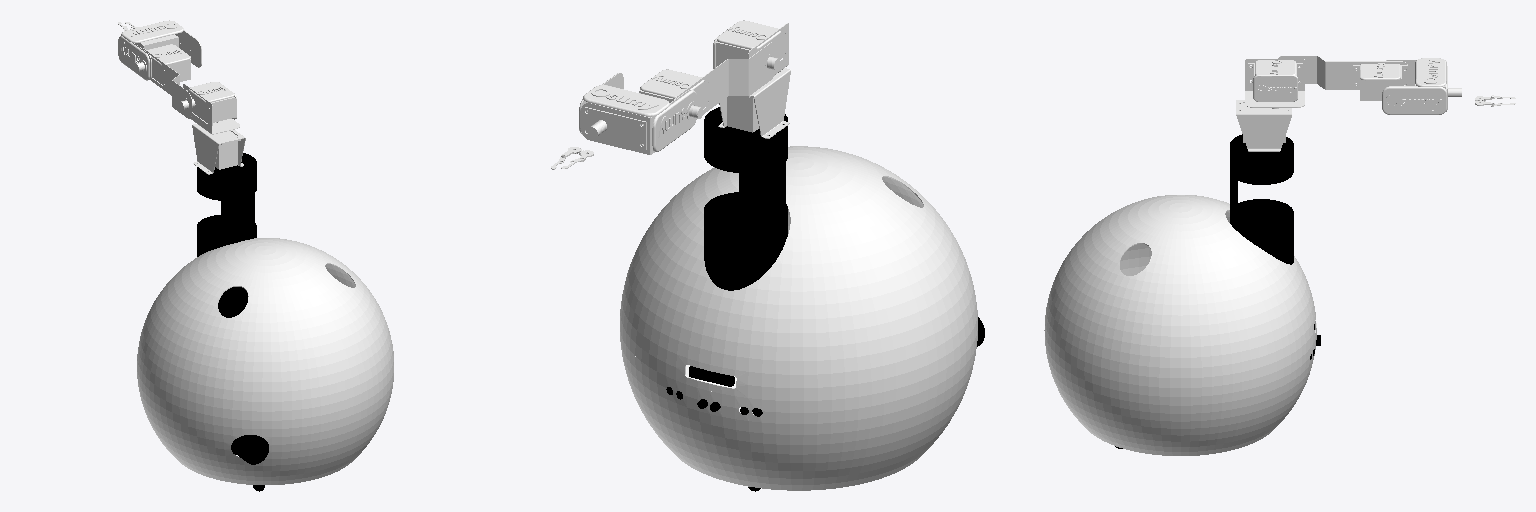
--- Render facts (derived) ---
Views: 3 orthographic renders of the robot side by side, from view 1: azimuth 30°, elevation 25°; view 2: azimuth 150°, elevation 25°; view 3: azimuth 270°, elevation 25°.
Model robot with 28 links and 27 joints (8 continuous, 19 fixed), rooted at base_link, posed all joints at 0.
Links seen in each view (by area): view 1: base_link, main_body, shoulder_arm, mount_arm, arm, mount, long_label_1, long_label_3, long_label_4, long_label_6, long_label_2; view 2: base_link, main_body, arm, shoulder_arm, wrist_arm, long_label_1, long_label_3, mount_arm, long_label_4, long_label_6; view 3: base_link, main_body, arm, shoulder_arm, long_label_2, long_label_5, mount_arm, long_label_1, long_label_6, long_label_4.
Link boxes in pixels (x1=…): base_link: x1=137, y1=238, x2=393, y2=484; main_body: x1=197, y1=153, x2=256, y2=317; shoulder_arm: x1=192, y1=124, x2=245, y2=174; mount_arm: x1=179, y1=84, x2=239, y2=134; arm: x1=135, y1=48, x2=191, y2=118; mount: x1=231, y1=435, x2=268, y2=464; long_label_1: x1=122, y1=20, x2=183, y2=42; long_label_3: x1=118, y1=36, x2=149, y2=80; long_label_4: x1=189, y1=82, x2=234, y2=102; long_label_6: x1=147, y1=44, x2=190, y2=65; long_label_2: x1=175, y1=30, x2=201, y2=67; base_link: x1=620, y1=146, x2=977, y2=490; main_body: x1=704, y1=107, x2=787, y2=290; arm: x1=639, y1=42, x2=776, y2=118; shoulder_arm: x1=718, y1=68, x2=790, y2=138; wrist_arm: x1=581, y1=90, x2=690, y2=154; long_label_1: x1=583, y1=85, x2=669, y2=116; long_label_3: x1=652, y1=90, x2=696, y2=151; mount_arm: x1=716, y1=23, x2=788, y2=74; long_label_4: x1=717, y1=20, x2=780, y2=49; long_label_6: x1=640, y1=69, x2=704, y2=98; base_link: x1=1044, y1=195, x2=1316, y2=455; main_body: x1=1230, y1=134, x2=1293, y2=264; arm: x1=1278, y1=56, x2=1407, y2=100; shoulder_arm: x1=1236, y1=100, x2=1291, y2=151; long_label_2: x1=1382, y1=86, x2=1446, y2=114; long_label_5: x1=1253, y1=74, x2=1297, y2=101; mount_arm: x1=1245, y1=59, x2=1304, y2=107; long_label_1: x1=1415, y1=58, x2=1446, y2=86; long_label_6: x1=1360, y1=63, x2=1400, y2=80; long_label_4: x1=1255, y1=60, x2=1295, y2=76.
Bounding box of the posed robot: 0.654 × 1.13 × 0.963 m (x, y, z).
22 mesh visuals loaded from 18 distinct referenced files (13 binary STL); not drawn: 6 (reference not matched to a file when rendering).

robot.urdf — robot:
<?xml version="1.0" encoding="utf-8"?>
<robot
  name="robot">
  <link
    name="base_link">
<inertial>
<mass value="10"/>
<inertia ixx="0.015" iyy="0.0375" izz="0.0375"
ixy="0" ixz="0" iyz="0"/>
</inertial>
    <visual>
      <origin
        xyz="0 0 0.33392"
        rpy="0 0 0" />
      <geometry>
        <mesh
          filename="package://robot/meshes/case_rsz.stl" />
      </geometry>
      <material
        name="White">
        <color
          rgba="1 1 1 1" />
      </material>
    </visual>
    <collision>
      <origin
        xyz="0 0 0.33392"
        rpy="0 0 0" />
      <geometry>
        <mesh
          filename="package://robot/meshes/case_rsz.stl" />
      </geometry>
    </collision>
  </link>
  <link
    name="leftwheel">
<inertial>
<mass value="1"/>
<inertia ixx="0.01" iyy="0.01" izz="0.01"
ixy="0" ixz="0" iyz="0"/>
</inertial>
    <visual>
      <origin
        xyz="0 0 0"
        rpy="0 0 3.14" />
      <geometry>
        <mesh
          filename="package://robot/meshes/wheel_rsz.stl" />
      </geometry>
      <material
        name="Black">
        <color
          rgba="0 0 0 1" />
      </material>
    </visual>
    <collision>
      <origin
        xyz="0 0 0"
        rpy="1.57 0 0" />
      <geometry>
        <cylinder radius="0.09" length = "0.03"/>
      </geometry>
    </collision>
  </link>
  <joint
    name="leftwheel_joint"
    type="continuous">
    <origin
        xyz="0.15 0 0.0851"
        rpy="0 0 1.5708" />
    <parent
      link="base_link" />
    <child
      link="leftwheel" />
    <axis
      xyz="0 1 0" />
  </joint>

  <link
    name="rightwheel">
<inertial>
<mass value="1"/>
<inertia ixx="0.01" iyy="0.01" izz="0.01"
ixy="0" ixz="0" iyz="0"/>
</inertial>
    <visual>
      <origin
        xyz="0 0 0"
        rpy="0 0 0" />
      <geometry>
        <mesh
          filename="package://robot/meshes/wheel_rsz.stl" />
      </geometry>
      <material
        name="Black">
        <color
          rgba="0 0 0 1" />
      </material>
    </visual>
    <collision>
      <origin
        xyz="0 0 0"
        rpy="1.57 0 0" />
      <geometry>
        <cylinder radius="0.09" length = "0.03"/>
      </geometry>
    </collision>
  </link>
  <joint
    name="rightwheel_joint"
    type="continuous">
    <origin
        xyz="-0.15 0 0.0851"
        rpy="0 0 1.5708" />
    <parent
      link="base_link" />
    <child
      link="rightwheel" />
    <axis
      xyz="0 1 0" />
  </joint>

 <link
    name="caster_front">
<inertial>
<mass value="0.5"/>
<inertia ixx="0.01" iyy="0.01" izz="0.01"
ixy="0" ixz="0" iyz="0"/>
</inertial>
    <visual>
      <origin
        xyz="0 0 0.06"
        rpy="0 0 0" />
      <geometry>
        <mesh
          filename="package://robot/meshes/caster.STL"/>

      </geometry>
      <material
        name="Black">
        <color
          rgba="0 0 0 1" />
      </material>
    </visual>
    <collision>
      <origin
        xyz="0.05 0 0"
        rpy="0 0 0" />
      <geometry>
        <sphere radius="0.025"/>
      </geometry>
    </collision>
  </link>
  <joint
    name="caster_front_joint"
    type="fixed">
    <origin
        xyz="0 0.1 0.024"
        rpy="0 0 1.57" />
    <parent
      link="base_link" />
    <child
      link="caster_front" />
    <axis
      xyz="0 1 0" />
  </joint>

 <link
    name="caster_right">
<inertial>
<mass value="0.8"/>
<inertia ixx="0.01" iyy="0.01" izz="0.01"
ixy="0" ixz="0" iyz="0"/>
</inertial>
    <visual>
      <origin
        xyz="0 0 0.06"
        rpy="0 0 0" />
      <geometry>
        <mesh
          filename="package://robot/meshes/caster.STL"/>

      </geometry>
      <material
        name="Black">
        <color
          rgba="0 0 0 1" />
      </material>
    </visual>
    <collision>
      <origin
        xyz="0 0 0"
        rpy="0 0 0" />
      <geometry>
        <sphere radius="0.025"/>
      </geometry>
    </collision>
  </link>
  <joint
    name="caster_right_joint"
    type="fixed">
    <origin
        xyz="0.1 -0.2 0.024"
        rpy="0 0 1.57" />
    <parent
      link="base_link" />
    <child
      link="caster_right" />
    <axis
      xyz="0 1 0" />
  </joint>

   <link
    name="caster_left">
<inertial>
<mass value="0.8"/>
<inertia ixx="0.01" iyy="0.01" izz="0.01"
ixy="0" ixz="0" iyz="0"/>
</inertial>
    <visual>
      <origin
        xyz="0 0 0.06"
        rpy="0 0 0" />
      <geometry>
        <mesh
          filename="package://robot/meshes/caster.STL"/>

      </geometry>
      <material
        name="Black">
        <color
          rgba="0 0 0 1" />
      </material>
    </visual>
    <collision>
      <origin
        xyz="0 0 0"
        rpy="0 0 0" />
      <geometry>
        <sphere radius="0.025"/>
      </geometry>
    </collision>
  </link>
  <joint
    name="caster_left_joint"
    type="fixed">
    <origin
        xyz="-0.1 -0.2 0.024"
        rpy="0 0 1.57" />
    <parent
      link="base_link" />
    <child
      link="caster_left" />
    <axis
      xyz="0 1 0" />
  </joint>


  <link
    name="mount">
<inertial>
<mass value="0.9"/>
<inertia ixx="0.01" iyy="0.01" izz="0.01"
ixy="0" ixz="0" iyz="0"/>
</inertial>
    <visual>
      <origin
        xyz="0 0 0"
        rpy="0 0 0" />
      <geometry>
        <mesh
          filename="package://robot/meshes/mount.stl" />
      </geometry>
      <material
        name="Black">
        <color
          rgba="0 0 0 1" />
      </material>
    </visual>
    <collision>
      <origin
        xyz="0 0 0"
        rpy="0 0 0" />
      <geometry>
        <mesh
          filename="package://robot/meshes/mount.stl" />
      </geometry>
    </collision>
  </link>
  <joint
    name="mount_joint"
    type="fixed">
    <origin
        xyz="-0.26 -0.3 0.13"
        rpy="0 0 0" />
    <parent
      link="base_link" />
    <child
      link="mount" />
    <axis
      xyz="0 1 0" />
  </joint>
  <link
    name="sensor1">
<inertial>
<mass value="0.1"/>
<inertia ixx="0.01" iyy="0.01" izz="0.01"
ixy="0" ixz="0" iyz="0"/>
</inertial>
    <visual>
      <origin
        xyz="0 0 0"
        rpy="0 0 0" />
      <geometry>
        <mesh
          filename="package://robot/meshes/sensor.stl" />
      </geometry>
      <material
        name="Black">
        <color
          rgba="0 0 0 1" />
      </material>
    </visual>
    <collision>
      <origin
        xyz="0 0 0"
        rpy="0 0 0" />
      <geometry>
        <mesh
          filename="package://robot/meshes/sensor.stl" />
      </geometry>
    </collision>
  </link>
  <joint
    name="sensor1_joint"
    type="fixed">
    <origin
        xyz="0 0.285 0.244"
        rpy="0 0 0" />
    <parent
      link="base_link" />
    <child
      link="sensor1" />
    <axis
      xyz="0 1 0" />
  </joint>

  <link
    name="sensor2">
<inertial>
<mass value="0.1"/>
<inertia ixx="0.01" iyy="0.01" izz="0.01"
ixy="0" ixz="0" iyz="0"/>

</inertial>
    <visual>
      <origin
        xyz="0 0 0 "
        rpy="0 0 0 " />
      <geometry>
        <mesh
          filename="package://robot/meshes/sensor.stl" />
      </geometry>
      <material
        name="Black">
        <color
          rgba="0 0 0 1" />
      </material>
    </visual>
    <collision>
      <origin
        xyz="0 0 0"
        rpy="0 0 0" />
      <geometry>
        <mesh
          filename="package://robot/meshes/sensor.stl" />
      </geometry>
    </collision>
  </link>
  <joint
    name="sensor2_joint"
    type="fixed">
    <origin
        xyz="0.078 0.265 0.244"
        rpy="0 0 -0.26" />
    <parent
      link="base_link" />
    <child
      link="sensor2" />
    <axis
      xyz="0 1 0" />
  </joint>
  <link
    name="sensor3">
<inertial>
<mass value="0.1"/>
<inertia ixx="0.01" iyy="0.01" izz="0.01"
ixy="0" ixz="0" iyz="0"/>
</inertial>
    <visual>
      <origin
        xyz="-0.078 0.265 0.244"
        rpy="0 0 0.26" />
      <geometry>
        <mesh
          filename="package://robot/meshes/sensor.stl" />
      </geometry>
      <material
        name="Black">
        <color
          rgba="0 0 0 1" />
      </material>
    </visual>
    <collision>
      <origin
        xyz="-0.078 0.265 0.244"
        rpy="0 0 0" />
      <geometry>
        <mesh
          filename="package://robot/meshes/sensor.stl" />
      </geometry>
    </collision>
  </link>
  <joint
    name="sensor3_joint"
    type="fixed">
    <origin
        xyz="0 0 0"
        rpy="0 0 0" />
    <parent
      link="base_link" />
    <child
      link="sensor3" />
    <axis
      xyz="0 1 0" />
  </joint>

  <link
    name="main_body">
<inertial>
<mass value="0.1"/>
<inertia ixx="0.01" iyy="0.01" izz="0.01"
ixy="0" ixz="0" iyz="0"/>
</inertial>
    <visual>
      <origin
        xyz="0 0 0"
        rpy="0 0 0" />
      <geometry>
        <mesh
          filename="package://robot/meshes/body.stl" />
      </geometry>
      <material
        name="Black">
        <color
          rgba="0 0 0 1" />
      </material>
    </visual>
    <collision>
      <origin
        xyz="0 0 0"
        rpy="0 0 0" />
      <geometry>
        <mesh
          filename="package://robot/meshes/body.stl" />
      </geometry>
    </collision>
  </link>
  <joint
    name="body_joint"
    type="fixed">
    <origin
        xyz="0 0.16 0.6"
        rpy="0 0 -1.5708" />
    <parent
      link="base_link" />
    <child
      link="main_body" />
    <axis
      xyz="0 1 0" />
  </joint>

  <link
    name="laser_cover">
<inertial>
<mass value="0.1"/>
<inertia ixx="0.01" iyy="0.01" izz="0.01"
ixy="0" ixz="0" iyz="0"/>
</inertial>
    <visual>
      <origin
        xyz="0 0 0"
        rpy="0 0 0" />
      <geometry>
        <mesh
          filename="package://robot/meshes/laser2.STL" />
      </geometry>
      <material
        name="White">
        <color
          rgba="0 0 0 1" />
      </material>
    </visual>
    <collision>
      <origin
        xyz="0 0 0"
        rpy="0 0 0" />
      <geometry>
        <mesh
          filename="package://robot/meshes/laser2.STL" />
      </geometry>
    </collision>
  </link>
  <joint
    name="laser_cover"
    type="fixed">
    <origin
        xyz="0 0.005 -0.015"
        rpy="1.57 0 -1.57" />
    <parent
      link="main_body" />
    <child
      link="laser_cover" />
    <axis
      xyz="0 1 0" />
  </joint>



  <link
    name="laser">
<inertial>
<mass value="0.1"/>
<inertia ixx="0.01" iyy="0.01" izz="0.01"
ixy="0" ixz="0" iyz="0"/>
</inertial>
    <visual>
      <origin
        xyz="0 0 0"
        rpy="0 0 0" />
      <geometry>
        <mesh
          filename="package://robot/meshes/laser.stl" />
      </geometry>
      <material
        name="White">
        <color
          rgba="1 1 1 1" />
      </material>
    </visual>
    <collision>
      <origin
        xyz="0 0 0"
        rpy="0 0 0" />
      <geometry>
        <mesh
          filename="package://robot/meshes/laser.stl" />
      </geometry>
    </collision>
  </link>
  <joint
    name="laser_joint"
    type="fixed">
    <origin
        xyz="0.01 0.065 0.03"
        rpy="1.57 1.57 -3.14" />
    <parent
      link="laser_cover" />
    <child
      link="laser" />
    <axis
      xyz="0 1 0" />
  </joint>
  <link
    name="shoulder_arm">
<inertial>
<mass value="0.1"/>
<inertia ixx="0.01" iyy="0.01" izz="0.01"
ixy="0" ixz="0" iyz="0"/>
</inertial>
    <visual>
      <origin
        xyz="0 0 0"
        rpy="0 0 0" />
      <geometry>
        <mesh
          filename="package://robot/meshes/shoulder.stl" />
      </geometry>
      <material
        name="White">
        <color
          rgba="1 1 1 1" />
      </material>
    </visual>
    <collision>
      <origin
        xyz="0 0 0"
        rpy="0 0 0" />
      <geometry>
        <mesh
          filename="package://robot/meshes/shoulder.stl" />
      </geometry>
    </collision>
  </link>
  <joint
    name="shoulder_arm_joint"
    type="fixed">
    <origin
        xyz="0 -0.02 0.2"
        rpy="0 0 0" />
    <parent
      link="main_body" />
    <child
      link="shoulder_arm" />
    <limit 
      lower="-0.78" upper="0.78" effort="0.1" velocity="0.1"/>
    <dynamics damping="0.5"/>
    <axis
      xyz="0 1 0" />
  </joint>
  <link
    name="mount_arm">
<inertial>
<mass value="0.1"/>
<inertia ixx="0.01" iyy="0.01" izz="0.01"
ixy="0" ixz="0" iyz="0" />
      </inertial>
    <visual>
      <origin
        xyz="0.026 0 0"
        rpy="0 0 0" />
      <geometry>
        <mesh
          filename="package://robot/meshes/mount_arm.stl" />
      </geometry>
      <material
        name="White">
        <color
          rgba="1 1 1 1" />
      </material>
    </visual>
    <collision>
      <origin
        xyz="0.026 0 0"
        rpy="0 0 0" />
      <geometry>
        <mesh
          filename="package://robot/meshes/mount_arm.stl" />
      </geometry>
    </collision>
  </link>
  <joint
    name="mount_arm_joint"
    type="continuous">
    <origin
        xyz="-0.026 0 0"
        rpy="0 0 0" />
    <parent
      link="shoulder_arm" />
    <child
      link="mount_arm" />

    <axis
      xyz="0 0 1" />
  </joint>
  
<link
    name="long_label_4">
<inertial>
<mass value="0.01"/>
<inertia ixx="0.01" iyy="0.01" izz="0.01"
ixy="0" ixz="0" iyz="0" />
      </inertial>
    <visual>
      <origin
        xyz="0 0 0"
        rpy="0 0 0" />
      <geometry>
        <mesh
          filename="package://robot/meshes/label.STL" 
          scale="1 1 1.1 "/>
      </geometry>
      <material
        name="White">
        <color
          rgba="1 1 1 1" />
      </material>
    </visual>
    <collision>
      <origin
        xyz="0 0 0"
        rpy="0 0 0" />
      <geometry>
        <mesh
          filename="package://robot/meshes/label.STL" />
      </geometry>
    </collision>
  </link>
  <joint
    name="long_label_4_joint"
    type="fixed">
    <origin
        xyz="0.005 -0.01 0.155"
        rpy="1.57 0 -1.57" />
    <parent
      link="mount_arm" />
    <child
      link="long_label_4" />
    <axis
      xyz="0 1 0" />
  </joint>

<link
    name="long_label_5">
<inertial>
<mass value="0.01"/>
<inertia ixx="0.01" iyy="0.01" izz="0.01"
ixy="0" ixz="0" iyz="0" />
      </inertial>
    <visual>
      <origin
        xyz="0 0 0"
        rpy="0 0 0" />
      <geometry>
        <mesh
          filename="package://robot/meshes/label.STL" 
          scale="1.2 1 0.8 "/>
      </geometry>
      <material
        name="White">
        <color
          rgba="1 1 1 1" />
      </material>
    </visual>
    <collision>
      <origin
        xyz="0 0 0"
        rpy="0 0 0" />
      <geometry>
        <mesh
          filename="package://robot/meshes/label.STL" />
      </geometry>
    </collision>
  </link>
  <joint
    name="long_label_5_joint"
    type="fixed">
    <origin
        xyz="0.005 0.035 0.12"
        rpy="0 0 0" />
    <parent
      link="mount_arm" />
    <child
      link="long_label_5" />
    <axis
      xyz="0 1 0" />
  </joint>

  <link
    name="arm">
<inertial>
<mass value="0.1"/>
<inertia ixx="0.01" iyy="0.01" izz="0.01"
ixy="0" ixz="0" iyz="0" />
      </inertial>
    <visual>
      <origin
        xyz="0.052 0.07376 -0.124"
        rpy="0 0 0" />
      <geometry>
        <mesh
          filename="package://robot/meshes/arm.stl" />
      </geometry>
      <material
        name="White">
        <color
          rgba="1 1 1 1" />
      </material>
    </visual>
    <collision>
      <origin
        xyz="0.052 0.07376 -0.124"
        rpy="0 0 0" />
      <geometry>
        <mesh
          filename="package://robot/meshes/arm.stl" />
      </geometry>
    </collision>
  </link>
  <joint
    name="arm_joint"
    type="continuous">
    <origin
        xyz="-0.026 -0.07376 0.124"
        rpy="0 0 0" />
    <parent
      link="mount_arm" />
    <child
      link="arm" />
    <axis
      xyz="0 1 0" />
  </joint>

<link
    name="long_label_6">
<inertial>
<mass value="0.01"/>
<inertia ixx="0.01" iyy="0.01" izz="0.01"
ixy="0" ixz="0" iyz="0" />
      </inertial>
    <visual>
      <origin
        xyz="0 0 0"
        rpy="0 0 0" />
      <geometry>
        <mesh
          filename="package://robot/meshes/label.STL" 
          scale="1 1 1.1 "/>
      </geometry>
      <material
        name="White">
        <color
          rgba="1 1 1 1" />
      </material>
    </visual>
    <collision>
      <origin
        xyz="0 0 0"
        rpy="0 0 0" />
      <geometry>
        <mesh
          filename="package://robot/meshes/label.STL" />
      </geometry>
    </collision>
  </link>
  <joint
    name="long_label_6_joint"
    type="fixed">
    <origin
        xyz="-0.22 0.08 0.03"
        rpy="1.57 0 -1.57" />
    <parent
      link="arm" />
    <child
      link="long_label_6" />
    <axis
      xyz="0 1 0" />
  </joint>


  <link
    name="wrist_arm">
<inertial>
<mass value="0.01"/>
<inertia ixx="0.01" iyy="0.01" izz="0.01"
ixy="0" ixz="0" iyz="0" />
      </inertial>
    <visual>
      <origin
        xyz="0.3 0.07376 -0.124"
        rpy="0 0 0" />
      <geometry>
        <mesh
          filename="package://robot/meshes/wrist.stl" />
      </geometry>
      <material
        name="White">
        <color
          rgba="1 1 1 1" />
      </material>
    </visual>
    <collision>
      <origin
        xyz="0.3 0.07376 -0.124"
        rpy="0 0 0" />
      <geometry>
        <mesh
          filename="package://robot/meshes/wrist.stl" />
      </geometry>
    </collision>
  </link>
  <joint
    name="wrist_arm_joint"
    type="continuous">
    <origin
        xyz="-0.25 0 0"
        rpy="0 0 0" />
    <parent
      link="arm" />
    <child
      link="wrist_arm" />
    <axis
      xyz="0 1 0" />
  </joint>

  <link
    name="long_label_1">
<inertial>
<mass value="0.01"/>
<inertia ixx="0.01" iyy="0.01" izz="0.01"
ixy="0" ixz="0" iyz="0" />
      </inertial>
    <visual>
      <origin
        xyz="0 0 0"
        rpy="0 0 0" />
      <geometry>
        <mesh
          filename="package://robot/meshes/long_label.STL" />
      </geometry>
      <material
        name="White">
        <color
          rgba="1 1 1 1" />
      </material>
    </visual>
    <collision>
      <origin
        xyz="0 0 0"
        rpy="0 0 0" />
      <geometry>
        <mesh
          filename="package://robot/meshes/long_label.STL" />
      </geometry>
    </collision>
  </link>
  <joint
    name="long_label_1_joint"
    type="fixed">
    <origin
        xyz="-0.1 0.11 0.04"
        rpy="1.57 0 1.57" />
    <parent
      link="wrist_arm" />
    <child
      link="long_label_1" />
    <axis
      xyz="0 1 0" />
  </joint>

  <link
    name="long_label_2">
<inertial>
<mass value="0.01"/>
<inertia ixx="0.01" iyy="0.01" izz="0.01"
ixy="0" ixz="0" iyz="0" />
      </inertial>
    <visual>
      <origin
        xyz="0 0 0"
        rpy="0 0 0" />
      <geometry>
        <mesh
          filename="package://robot/meshes/long_label.STL" />
      </geometry>
      <material
        name="White">
        <color
          rgba="1 1 1 1" />
      </material>
    </visual>
    <collision>
      <origin
        xyz="0 0 0"
        rpy="0 0 0" />
      <geometry>
        <mesh
          filename="package://robot/meshes/long_label.STL" />
      </geometry>
    </collision>
  </link>
  <joint
    name="long_label_2_joint"
    type="fixed">
    <origin
        xyz="-0.06 0.185 0.0"
        rpy="0 0 0" />
    <parent
      link="wrist_arm" />
    <child
      link="long_label_2" />
    <axis
      xyz="0 1 0" />
  </joint>

<link
    name="long_label_3">
<inertial>
<mass value="0.01"/>
<inertia ixx="0.01" iyy="0.01" izz="0.01"
ixy="0" ixz="0" iyz="0" />
      </inertial>
    <visual>
      <origin
        xyz="0 0 0"
        rpy="0 0 0" />
      <geometry>
        <mesh
          filename="package://robot/meshes/long_label.STL" />
      </geometry>
      <material
        name="White">
        <color
          rgba="1 1 1 1" />
      </material>
    </visual>
    <collision>
      <origin
        xyz="0 0 0"
        rpy="0 0 0" />
      <geometry>
        <mesh
          filename="package://robot/meshes/long_label.STL" />
      </geometry>
    </collision>
  </link>
  <joint
    name="long_label_3_joint"
    type="fixed">
    <origin
        xyz="-0.058 0.035 0.005"
        rpy="0 3.14 3.14" />
    <parent
      link="wrist_arm" />
    <child
      link="long_label_3" />
    <axis
      xyz="0 1 0" />
  </joint>


<link
    name="servo">
<inertial>
<mass value="0.01"/>
<inertia ixx="0.01" iyy="0.01" izz="0.01"
ixy="0" ixz="0" iyz="0" />
      </inertial>
    <visual>
      <origin
        xyz="0 -0.02 0"
        rpy="0 0 0" />
      <geometry>
        <mesh
          filename="package://robot/meshes/servo.stl" />
      </geometry>
      <material
        name="White">
        <color
          rgba="1 1 1 1" />
      </material>
    </visual>
    <collision>
      <origin
        xyz="0 0 0"
        rpy="0 0 0" />
      <geometry>
        <mesh
          filename="package://robot/meshes/servo.stl" />
      </geometry>
    </collision>
  </link>
<joint
    name="servo_joint"
    type="continuous">
    <origin
        xyz="-0.2 0.14 0.01"
        rpy="-1.57 0 1.57" />
    <parent
      link="wrist_arm" />
    <child
      link="servo" />
    <axis
      xyz="0 0 1" />
  </joint>
     
  <link
    name="finger1">
<inertial>
<mass value="0.01"/>
<inertia ixx="0.01" iyy="0.01" izz="0.01"
ixy="0" ixz="0" iyz="0" />
      </inertial>
    <visual>
      <origin
        xyz="0 0 0"
        rpy="0 0 0" />
      <geometry>
        <mesh
          filename="package://robot/meshes/finger2.stl" />
      </geometry>
      <material
        name="White">
        <color
          rgba="1 1 1 1" />
      </material>
    </visual>
    <collision>
      <origin
        xyz="0 0 0"
        rpy="0 0 0" />
      <geometry>
        <mesh
          filename="package://robot/meshes/finger2.stl" />
      </geometry>
    </collision>
  </link>
<joint
    name="finger1_joint"
    type="continuous">
    <origin
        xyz="-0.016 0.03 0.015"
        rpy="0 0 3.14" />
    <parent
      link="servo" />
    <child
      link="finger1" />
    <axis
      xyz="0 1 0" />
  </joint>
     
  <link
    name="finger2">
<inertial>
<mass value="0.01"/>
<inertia ixx="0.01" iyy="0.01" izz="0.01"
ixy="0" ixz="0" iyz="0" />
      </inertial>
    <visual>
      <origin
        xyz="0 0 0"
        rpy="0 0 0" />
      <geometry>
        <mesh
          filename="package://robot/meshes/finger2.stl" />
      </geometry>
      <material
        name="White">
        <color
          rgba="1 1 1 1" />
      </material>
    </visual>
    <collision>
      <origin
        xyz="0 0 0"
        rpy="0 0 0" />
      <geometry>
        <mesh
          filename="package://robot/meshes/finger2.stl" />
      </geometry>
    </collision>
  </link>
<joint
    name="finger2_joint"
    type="continuous">
    <origin
        xyz="0.015 0.03 0.015"
        rpy="0 0 0" />
    <parent
      link="servo" />
    <child
      link="finger2" />
    <axis
      xyz="0 1 0" />
  </joint>

<!--     
 <link
    name="camera_link">
<inertial>
<mass value="0.1"/>
<inertia ixx="0.01" iyy="0.01" izz="0.01"
ixy="0" ixz="0" iyz="0"/>
</inertial>
    <visual>
      <origin
        xyz="0 0 0"
        rpy="0 1.57 0" />
      <geometry>
        <mesh
          filename="package://robot/meshes/astra.dae"
          scale="0.3 0.3 0.3 " />

      </geometry>
      <material
        name="Black">
        <color
          rgba="0 0 0 1" />
      </material>
    </visual>
    <collision>
      <origin
        xyz="0 0 0"
        rpy="0 1.57 0" />
      <geometry>
        <mesh
          filename="package://robot/meshes/astra.dae"
          scale="0.3 0.3 0.3 " />
      </geometry>
    </collision>
  </link>
  <joint
    name="camera_joint"
    type="fixed">
    <origin
        xyz="0 0.27 0.33"
        rpy="-1.57 0 1.57" />
    <parent
      link="base_link" />
    <child
      link="camera_link" />
    <axis
      xyz="0 1 0" />
  </joint>
-->
 <link
    name="camera_2">
<inertial>
<mass value="0.1"/>
<inertia ixx="0.01" iyy="0.01" izz="0.01"
ixy="0" ixz="0" iyz="0"/>
</inertial>
    <visual>
      <origin
        xyz="0 0 0"
        rpy="0 0 0" />
      <geometry>
        <mesh
          filename="package://robot/meshes/T265.STL" />

      </geometry>
      <material
        name="Black">
        <color
          rgba="0 0 0 1" />
      </material>
    </visual>
    <collision>
      <origin
        xyz="0 0 0"
        rpy="0 0 0" />
      <geometry>
        <mesh
          filename="package://robot/meshes/T265.STL" />
      </geometry>
    </collision>
  </link>

  <joint
    name="camera_2_joint"
    type="fixed">
    <origin
        xyz="-0.045 0.27 0.312"
        rpy="-1.57 0 0" />
    <parent
      link="base_link" />
    <child
      link="camera_2" />
    <axis
      xyz="0 1 0" />
  </joint>

 <link
    name="camera_1">
<inertial>
<mass value="0.1"/>
<inertia ixx="0.01" iyy="0.01" izz="0.01"
ixy="0" ixz="0" iyz="0"/>
</inertial>
    <visual>
      <origin
        xyz="0 0 0"
        rpy="0 0 0" />
      <geometry>
        <mesh
          filename="package://robot/meshes/astra.dae"
          scale="0.3 0.3 0.3 " />

      </geometry>
      <material
        name="Black">
        <color
          rgba="0 0 0 1" />
      </material>
    </visual>
    <collision>
      <origin
        xyz="0 0 0"
        rpy="0 0 0" />
      <geometry>
        <mesh
          filename="package://robot/meshes/astra.dae"
          scale="0.3 0.3 0.3 " />
      </geometry>
    </collision>
  </link>
  <joint
    name="camera_1_joint"
    type="fixed">
    <origin
        xyz="0 -0.04 0"
        rpy="0 0 0" />
    <parent
      link="servo" />
    <child
      link="camera_1" />
    <axis
      xyz="0 1 0" />
  </joint>


<!--Gazebo -->

  <gazebo reference="base_link">
         <material>Gazebo/SkyBlue</material>
  </gazebo>

  <gazebo reference="rightwheel">
         <material>Gazebo/DarkGrey</material>
  </gazebo>

  <gazebo reference="leftwheel">
         <material>Gazebo/DarkGrey</material>
  </gazebo>

  <gazebo reference="sensor1">
         <material>Gazebo/ZincYellow</material>
  </gazebo>

  <gazebo reference="sensor2">
         <material>Gazebo/ZincYellow</material>
  </gazebo>

  <gazebo reference="sensor3">
         <material>Gazebo/ZincYellow</material>
  </gazebo>

  <gazebo reference="main_body">
         <material>Gazebo/DarkGrey</material>
  </gazebo>

  <gazebo reference="laser">
         <material>Gazebo/ZincYellow</material>
  </gazebo>
  <gazebo reference="wrist_arm">
         <material>Gazebo/Purple</material>
  </gazebo>
  <gazebo reference="shoulder_arm">
         <material>Gazebo/Red</material>
  </gazebo>
  <gazebo reference="arm">
         <material>Gazebo/Indigo</material>
  </gazebo>
  <gazebo reference="servo">
         <material>Gazebo/GreenGlow</material>
  </gazebo>
 <gazebo reference="finger1">
         <material>Gazebo/YellowGlow</material>
  </gazebo>
   <gazebo reference="finger2">
         <material>Gazebo/BlueGlow</material>
  </gazebo>

     <gazebo reference="laser_cover">
         <material>Gazebo/Purple</material>
  </gazebo>

     <gazebo reference="long_label_1">
         <material>Gazebo/ZincYellow</material>
  </gazebo>
     <gazebo reference="long_label_2">
         <material>Gazebo/ZincYellow</material>
  </gazebo>

     <gazebo reference="long_label_3">
         <material>Gazebo/ZincYellow</material>
  </gazebo>
     <gazebo reference="long_label_4">
         <material>Gazebo/ZincYellow</material>
  </gazebo>
     <gazebo reference="long_label_5">
         <material>Gazebo/ZincYellow</material>
  </gazebo>
      <gazebo reference="long_label_6">
         <material>Gazebo/ZincYellow</material>
  </gazebo> 

</robot>
